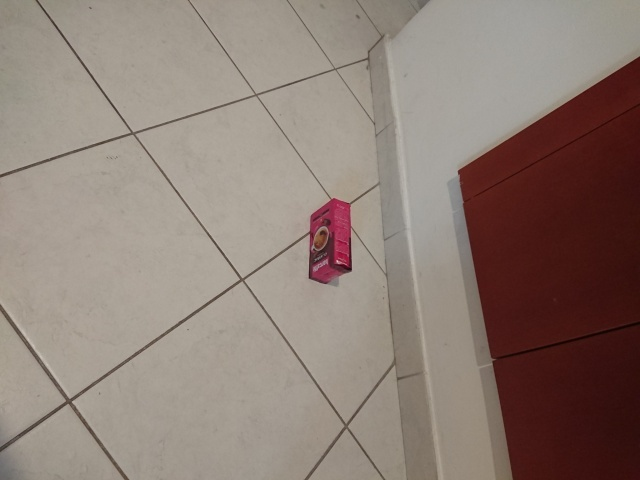Barcaffe Classic Original 225g: (307, 197, 353, 286)
